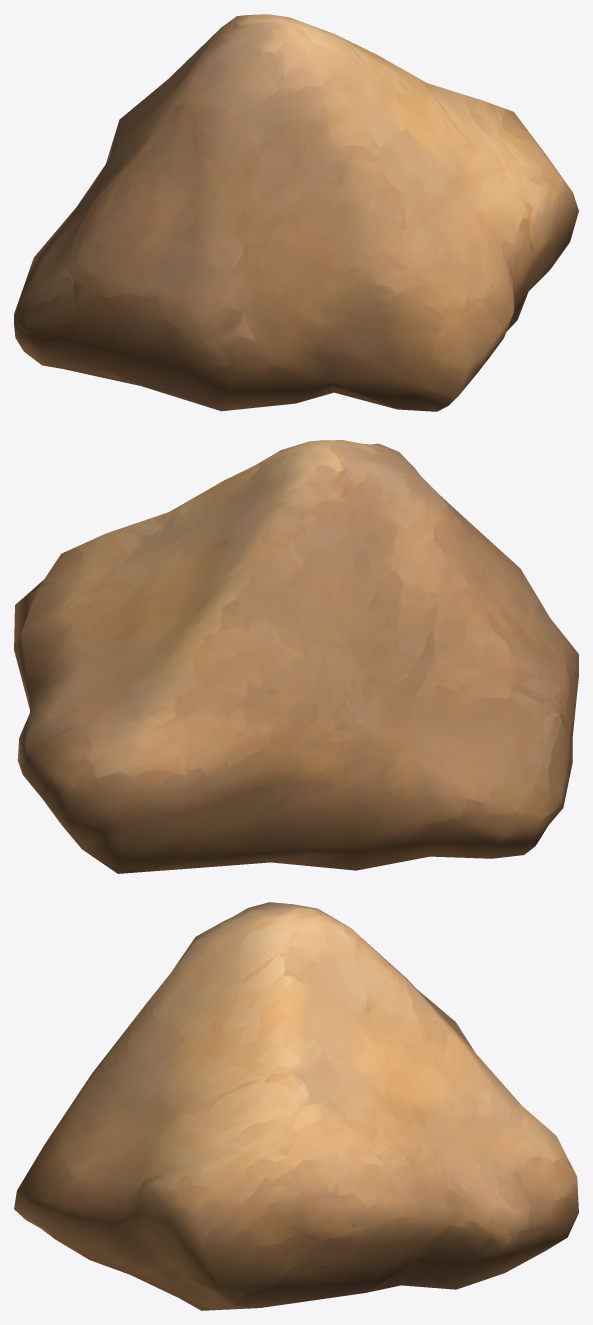
The model's file is Small_Rock3.fbx.
3 views of the same model, one above another, from view 1: azimuth 30°, elevation 25°; view 2: azimuth 150°, elevation 25°; view 3: azimuth 270°, elevation 25° (orthographic). The views are drawn at different scales.
Parts seen in each view (by area): view 1: tripo_node_c5218547; view 2: tripo_node_c5218547; view 3: tripo_node_c5218547.
Boxes of the visible parts, bbox=[...] form: tripo_node_c5218547: bbox=[14, 14, 578, 411]; tripo_node_c5218547: bbox=[14, 440, 578, 873]; tripo_node_c5218547: bbox=[14, 902, 578, 1310].
Size of the model in its own units: 99 by 100 by 62.11.
